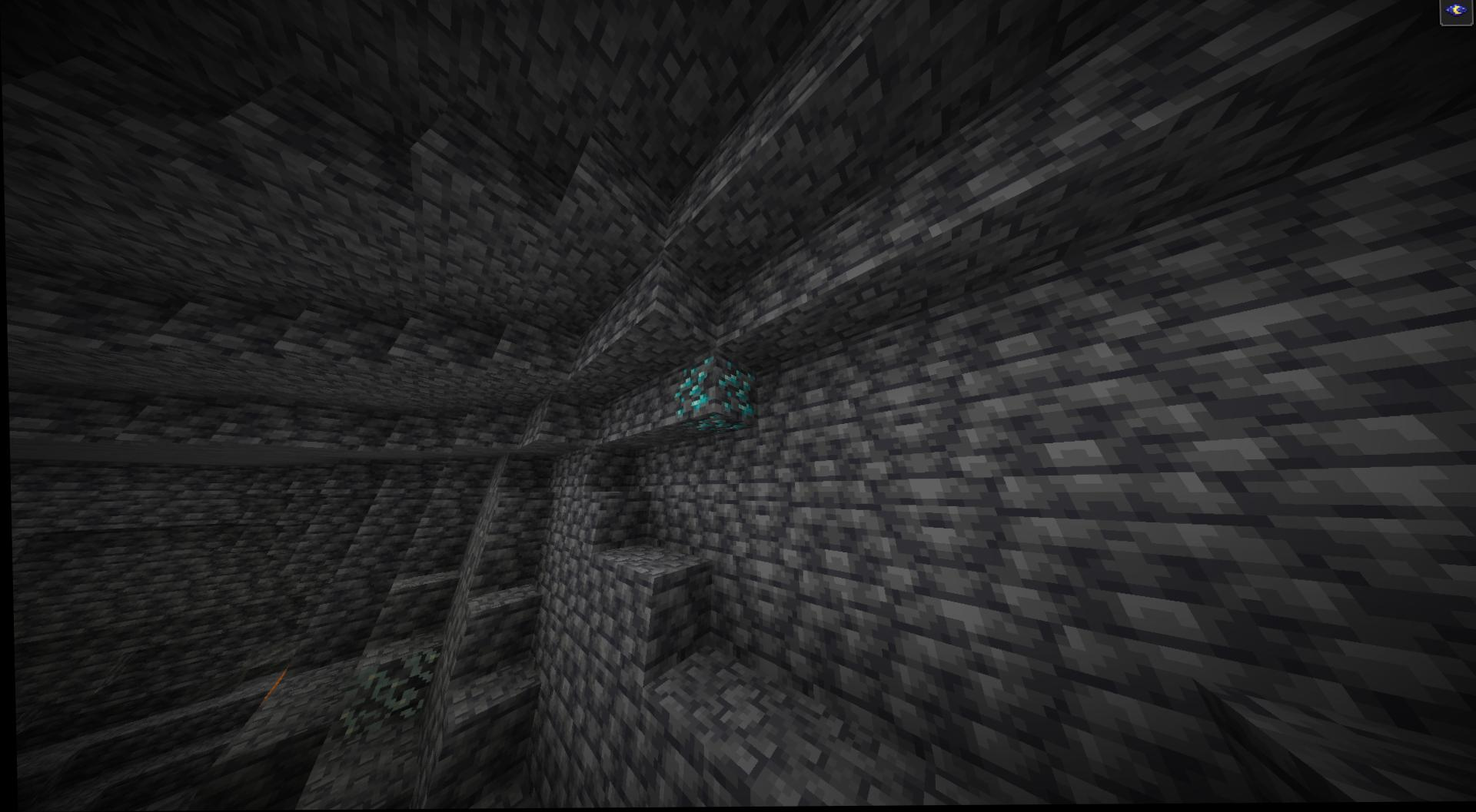diamond ore: (668, 360, 712, 415), (713, 364, 755, 417), (689, 415, 740, 436)
